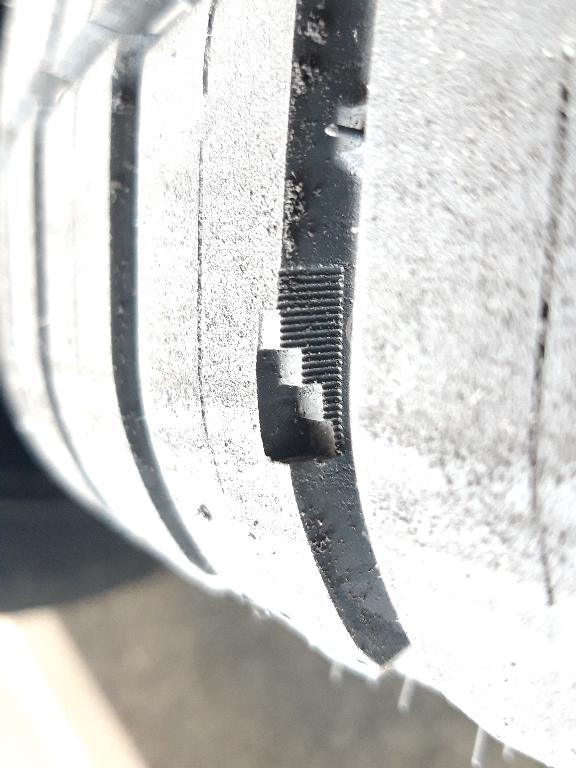temoin:75: (248, 303, 357, 474)
